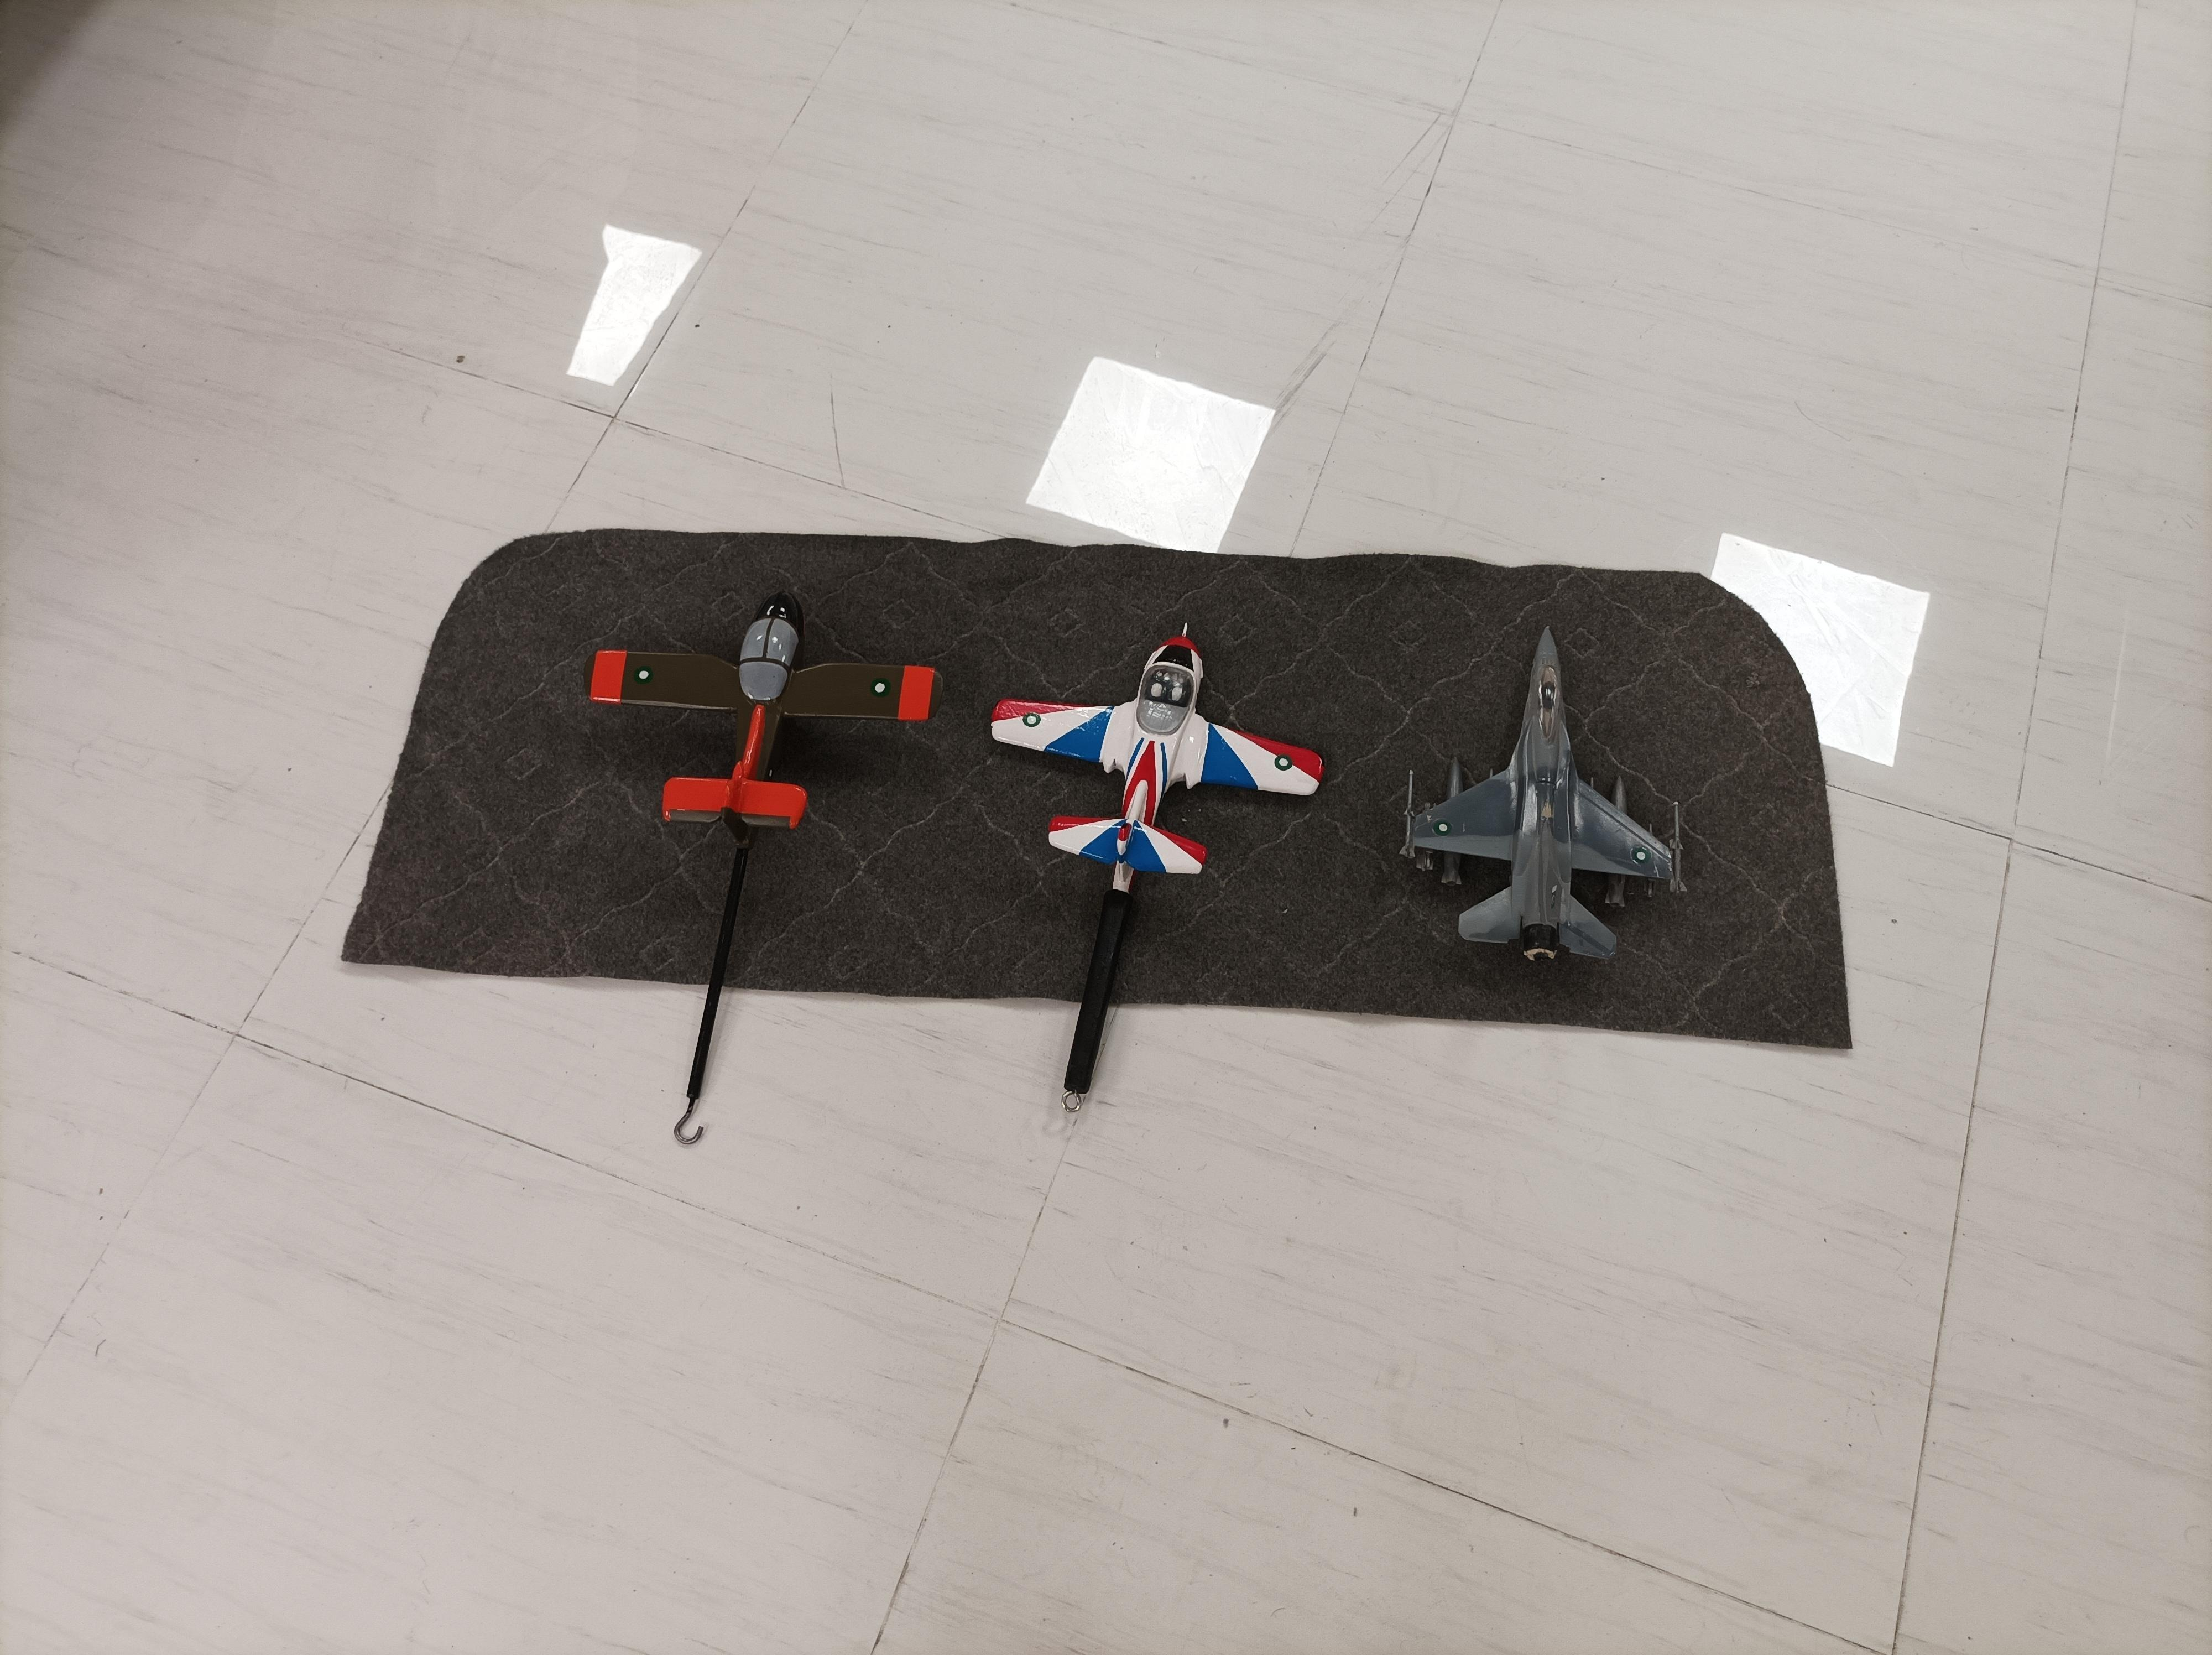Airplane: (1380, 603, 1698, 996), (963, 605, 1350, 899), (556, 567, 950, 843)
